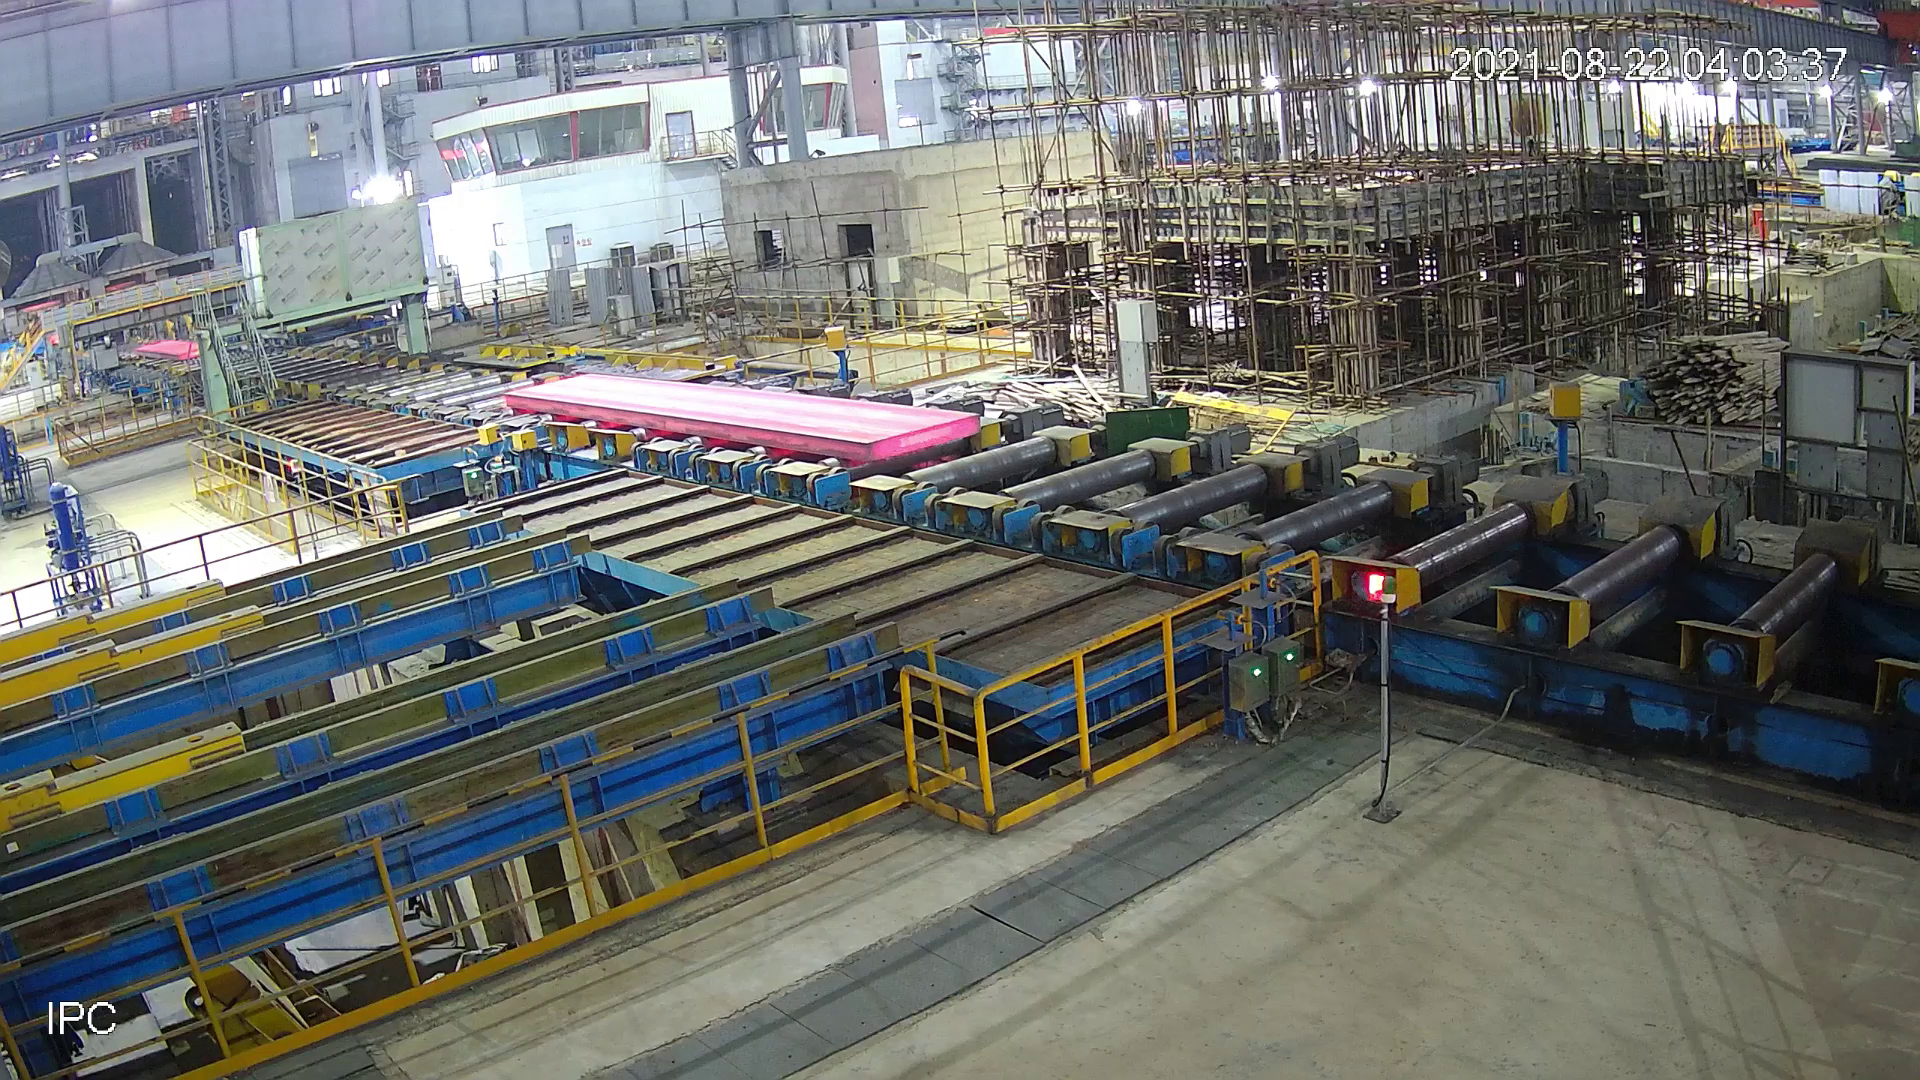slab: (498, 361, 984, 483), (131, 338, 215, 364)
